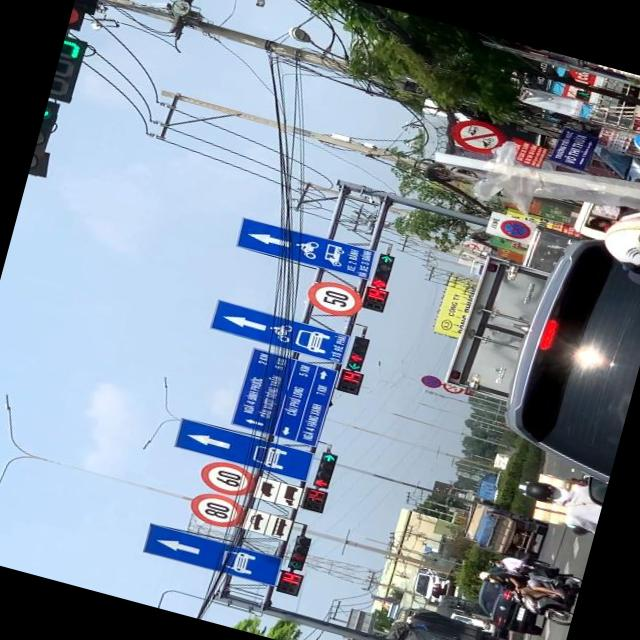P-127: (303, 276, 365, 320), (198, 454, 256, 498), (186, 487, 242, 529)
